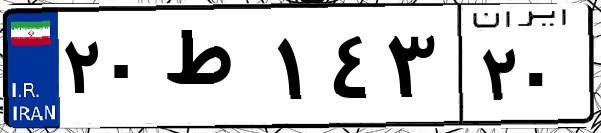0: (525, 38, 570, 115), (110, 28, 158, 98)
1: (270, 28, 330, 110)
2: (57, 26, 110, 100), (475, 38, 525, 113)
3: (385, 28, 445, 110)
4: (330, 28, 385, 110)
ط: (158, 20, 270, 120)
